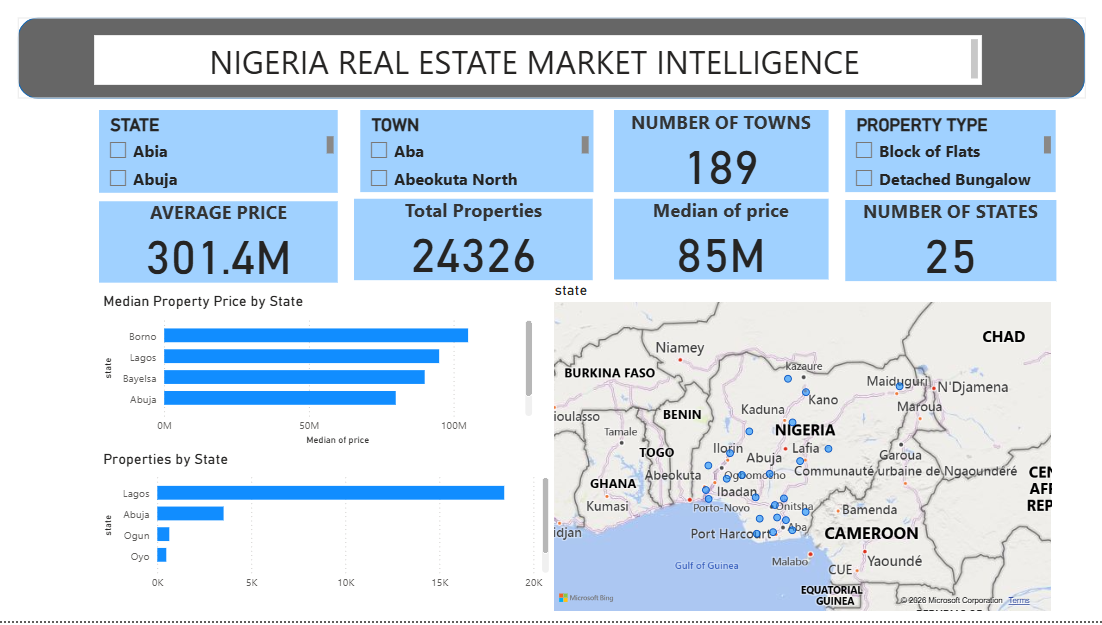

What the dashboard file says about the page in this screenshot:
{"tool":"powerbi","page":{"name":"NIGERIA REAL ESTATE MARKET INTELLIGENCE","canvas":[1280,720],"ordinal":0},"visuals":[{"type":"shape","box":[21.4,20.4,1237.5,94.2],"z":0,"group":"g1"},{"type":"slicer","fields":{"Values":["clean_nigeriarealestate_dataset.state"]},"box":[116.3,127.2,277.2,95.7],"z":0},{"type":"textbox","box":[109.4,41.2,1029.6,57.5],"z":1000,"group":"g1"},{"type":"slicer","fields":{"Values":["clean_nigeriarealestate_dataset.town"]},"box":[418.8,127.5,270,95],"z":1000},{"type":"slicer","fields":{"Values":["clean_nigeriarealestate_dataset.title"]},"box":[981.2,127.5,243.8,95],"z":2000},{"type":"cardVisual","fields":{"Data":["clean_nigeriarealestate_dataset.AVERAGE PRICE"]},"box":[115.7,232.9,277.1,94.3],"z":3000},{"type":"cardVisual","fields":{"Data":["Median(clean_nigeriarealestate_dataset.price)"]},"box":[713.3,231.1,248.9,93.3],"z":4000},{"type":"cardVisual","fields":{"Data":["clean_nigeriarealestate_dataset.SUM TOWN"]},"box":[713.8,127.5,248.8,95],"z":5000},{"type":"cardVisual","fields":{"Data":["clean_nigeriarealestate_dataset.SUM STATE"]},"box":[981.1,232.2,244.4,94.4],"z":6000},{"type":"clusteredBarChart","title":"Median Property Price by State","fields":{"Category":["clean_nigeriarealestate_dataset.state"],"Y":["Median(clean_nigeriarealestate_dataset.price)"]},"box":[116.2,338.7,507.5,182.2],"z":7000},{"type":"clusteredBarChart","title":"Properties by State","fields":{"Category":["clean_nigeriarealestate_dataset.state"],"Y":["clean_nigeriarealestate_dataset.Total Properties"]},"box":[116.6,521.4,526.9,171.5],"z":8000},{"type":"map","fields":{"Category":["clean_nigeriarealestate_dataset.state"]},"box":[639.5,326.6,585.9,387],"z":9000},{"type":"cardVisual","fields":{"Data":["clean_nigeriarealestate_dataset.Total Properties"]},"box":[411.1,231.1,277.1,94.3],"z":10000},{"type":"group","id":"g1","title":"Group 1","box":[21.4,20.4,1237.5,94.2],"z":11000}]}

Visuals, with their boxes in screenshot pixels (x1, y1, x2, y2), scaled from the page's 1280x720 canvas onto the 1102x625 screenshot:
shape: x1=18 y1=18 x2=1084 y2=99
slicer - clean_nigeriarealestate_dataset.state: x1=100 y1=110 x2=339 y2=193
textbox: x1=94 y1=36 x2=981 y2=86
slicer - clean_nigeriarealestate_dataset.town: x1=361 y1=111 x2=593 y2=193
slicer - clean_nigeriarealestate_dataset.title: x1=845 y1=111 x2=1055 y2=193
cardVisual - clean_nigeriarealestate_dataset.AVERAGE PRICE: x1=100 y1=202 x2=338 y2=284
cardVisual - Median(clean_nigeriarealestate_dataset.price): x1=614 y1=201 x2=828 y2=282
cardVisual - clean_nigeriarealestate_dataset.SUM TOWN: x1=615 y1=111 x2=829 y2=193
cardVisual - clean_nigeriarealestate_dataset.SUM STATE: x1=845 y1=202 x2=1055 y2=284
"Median Property Price by State" clusteredBarChart: x1=100 y1=294 x2=537 y2=452
"Properties by State" clusteredBarChart: x1=100 y1=453 x2=554 y2=601
map - clean_nigeriarealestate_dataset.state: x1=551 y1=284 x2=1055 y2=619
cardVisual - clean_nigeriarealestate_dataset.Total Properties: x1=354 y1=201 x2=592 y2=282
"Group 1" group: x1=18 y1=18 x2=1084 y2=99
